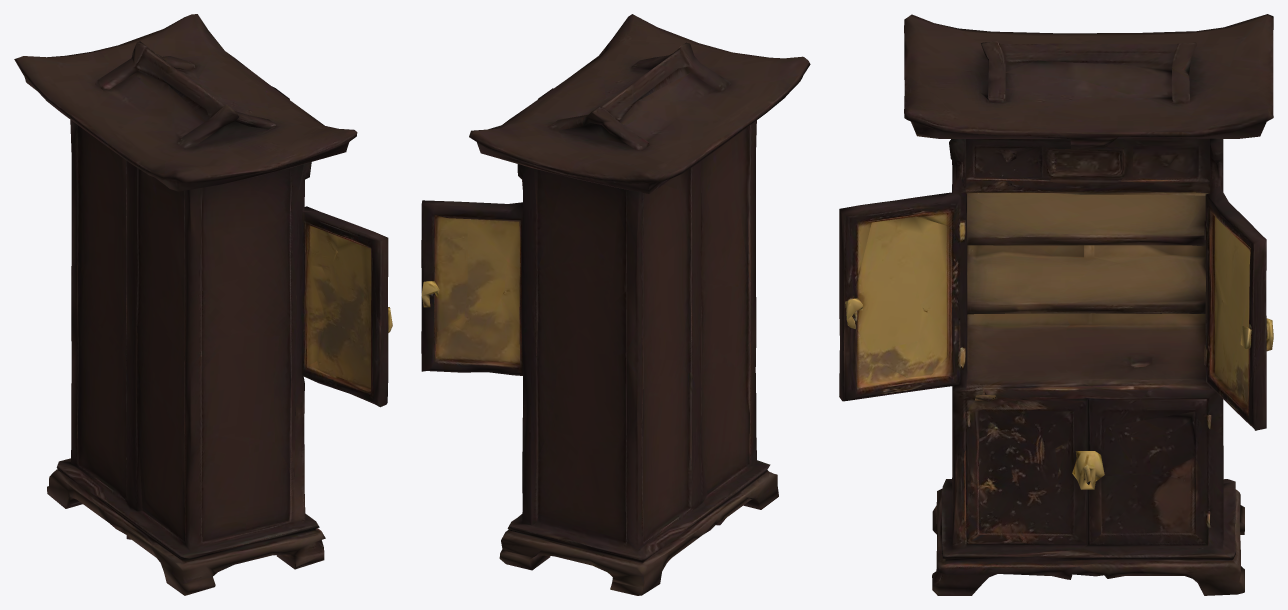
Rendered from butsudan.glb.
3 renders of one model, left to right at view 1: azimuth 30°, elevation 25°; view 2: azimuth 150°, elevation 25°; view 3: azimuth 270°, elevation 25°, orthographic. The views are drawn at different scales.
Parts seen in each view (by area): view 1: tripo_node_cb18ba09-1218-444a-9c4a-3be01f0920c4; view 2: tripo_node_cb18ba09-1218-444a-9c4a-3be01f0920c4; view 3: tripo_node_cb18ba09-1218-444a-9c4a-3be01f0920c4.
Boxes of the visible parts, box(x1,y1,x2,y2) form: tripo_node_cb18ba09-1218-444a-9c4a-3be01f0920c4: box(14, 14, 392, 595); tripo_node_cb18ba09-1218-444a-9c4a-3be01f0920c4: box(421, 14, 810, 595); tripo_node_cb18ba09-1218-444a-9c4a-3be01f0920c4: box(839, 14, 1273, 595).
Size of the model in its own units: 0.547 by 1 by 0.7648.
Materials: 1 (1 with a texture image).
